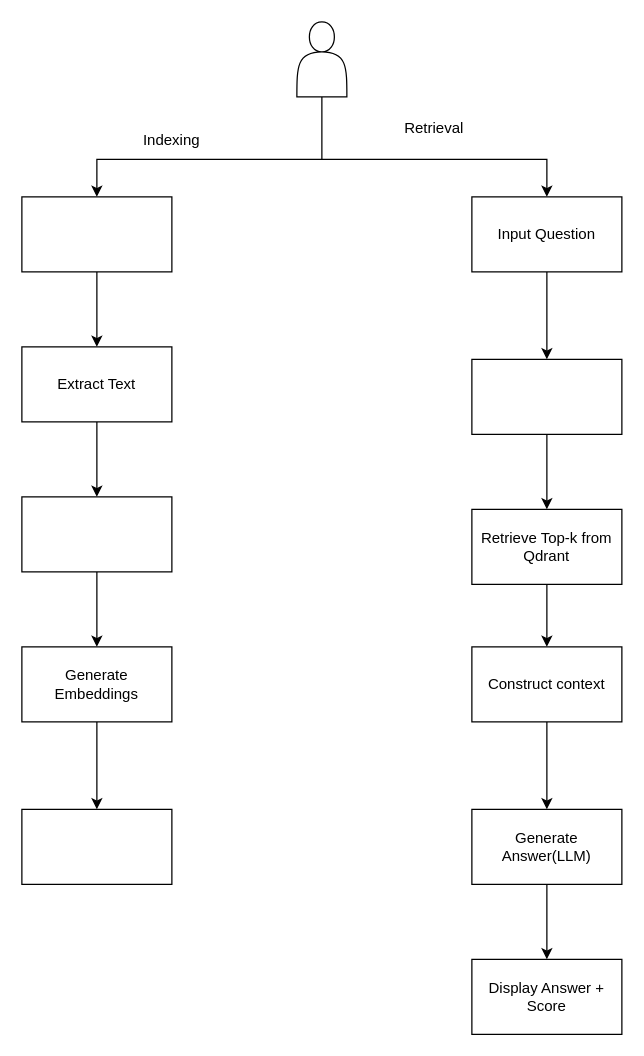
Some shapes in this 644 by 1056 pixel diagram are drawn without their labels. Each missing label, with the centre of its shape:
"Encode Query(Embeddings)" goes at point 546,396.
"Split text into chunks" goes at point 96,534.
"Store in Qdrant(Vector db)" goes at point 96,846.
"Upload PDFs" goes at point 96,234.
